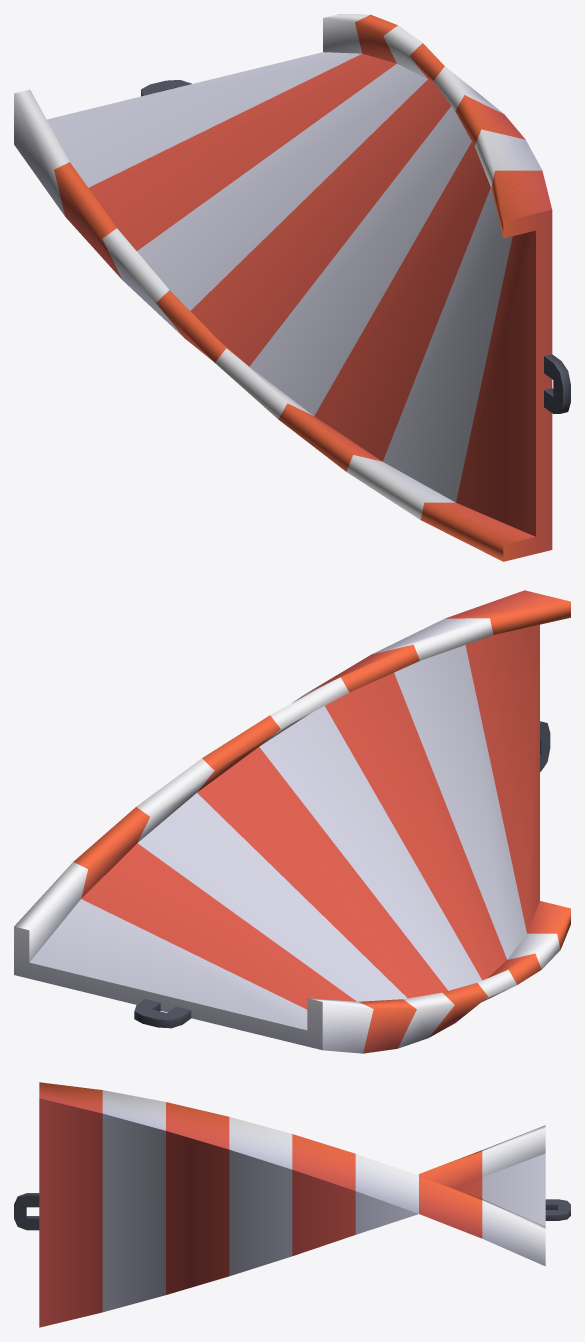
Rendered from track-striped-wide-straight-skew-right-side.glb.
3 views of the same model, one above another, from view 1: azimuth 30°, elevation 25°; view 2: azimuth 150°, elevation 25°; view 3: azimuth 270°, elevation 25° (orthographic). The views are drawn at different scales.
Parts seen in each view (by area): view 1: track-striped-wide-straight-skew-right-side; view 2: track-striped-wide-straight-skew-right-side; view 3: track-striped-wide-straight-skew-right-side.
Part boxes in pixels (left/top/right/bottom): track-striped-wide-straight-skew-right-side: left=14, top=14, right=570, bottom=561; track-striped-wide-straight-skew-right-side: left=14, top=590, right=570, bottom=1053; track-striped-wide-straight-skew-right-side: left=14, top=1082, right=570, bottom=1327.
Bounding box in the file's own units: 6.13 × 6.13 × 13.2.
1 material, 1 textured.
